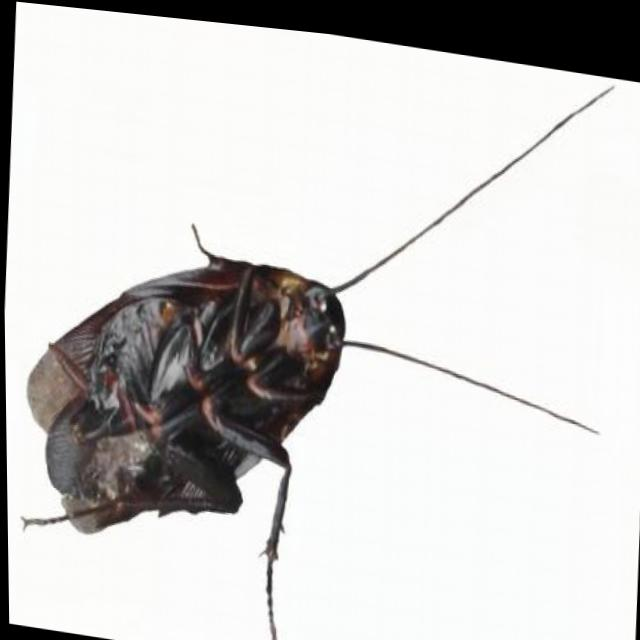Cockroach: (1, 0, 633, 640)
